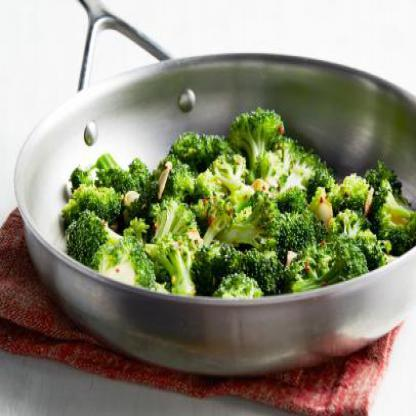broccoli: (57, 102, 415, 309)
